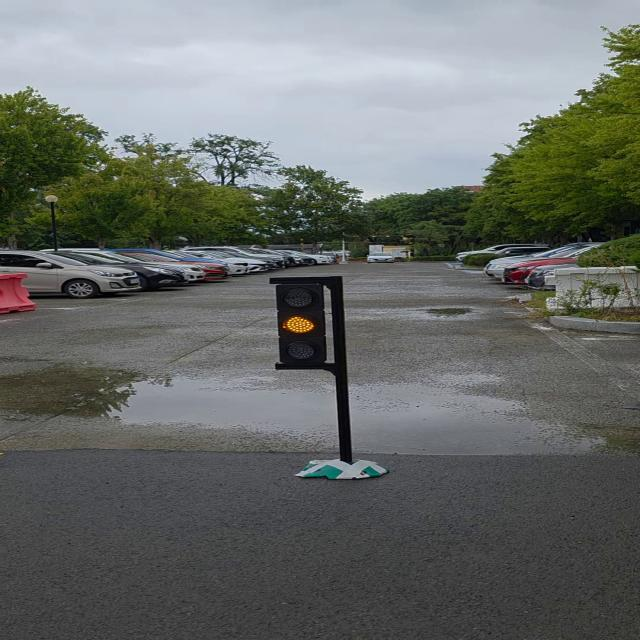yellow: (278, 279, 332, 369)
